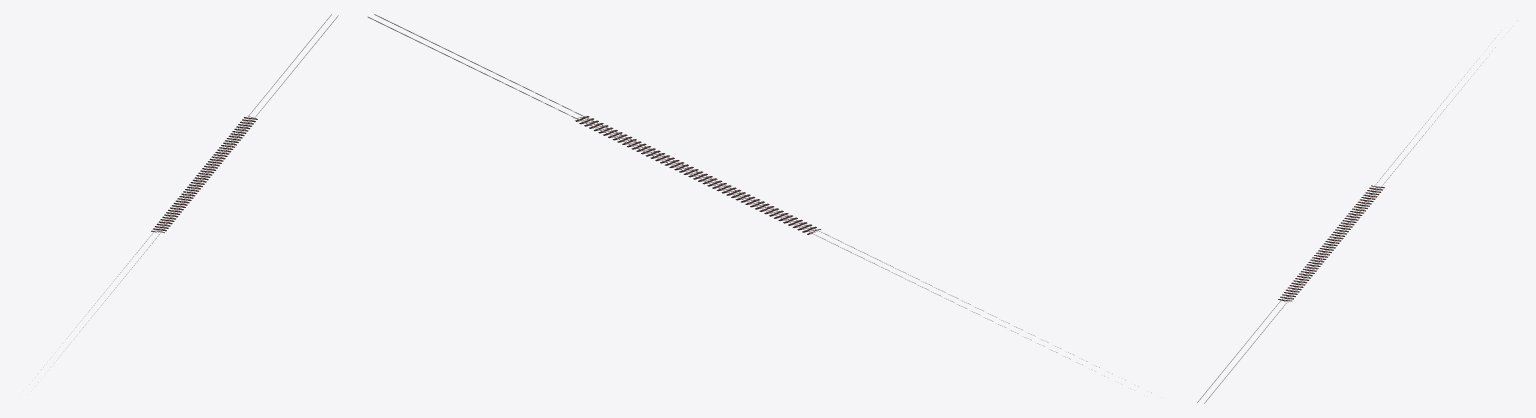
3 views of the same model, side by side, from view 1: azimuth 90°, elevation 25°; view 2: azimuth 150°, elevation 25°; view 3: azimuth 270°, elevation 25° (orthographic). The views are drawn at different scales.
Size of the model in its own units: 137 by 0.1478 by 48.14.
